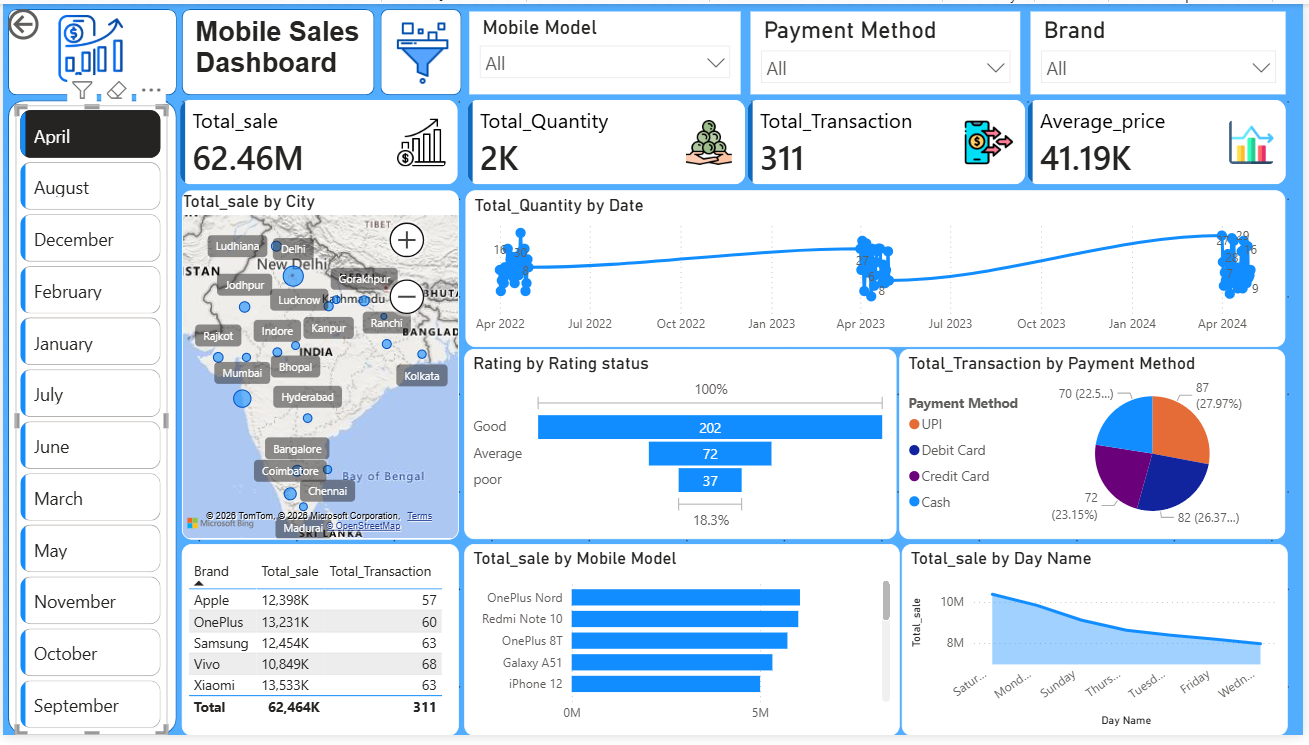

The page's visual inventory and layout, read from the dashboard file:
{"tool":"powerbi","page":{"name":"Dashboard","canvas":[1280,720],"ordinal":0},"visuals":[{"type":"shape","box":[0,0,171.4,90],"z":0},{"type":"image","box":[32.9,7.1,107.1,72.9],"z":1000},{"type":"shape","box":[0,90,171.2,630],"z":2000},{"type":"actionButton","box":[0,0,100,40],"z":3000},{"type":"shape","box":[171.2,0,195,90],"z":4000},{"type":"textbox","box":[185,7.5,181.2,72.5],"z":5000},{"type":"shape","box":[366.2,0,85,90],"z":6000},{"type":"image","box":[366.2,17.5,92.5,62.5],"z":7000},{"type":"slicer","fields":{"Values":["mobile-sales-data.Mobile Model"]},"box":[458.6,7.1,267.1,81.4],"z":8000},{"type":"slicer","fields":{"Values":["mobile-sales-data.Payment Method"]},"box":[735.7,7.1,265.7,81.4],"z":9000},{"type":"slicer","fields":{"Values":["mobile-sales-data.Brand"]},"box":[1011.4,7.1,251.4,81.4],"z":10000},{"type":"map","title":"Total_sale by City","fields":{"Category":["mobile-sales-data.City"],"Size":["mobile-sales-data.Total_sale"]},"box":[175.7,182.9,272.9,344.3],"z":11000},{"type":"tableEx","fields":{"Values":["mobile-sales-data.Brand","mobile-sales-data.Total_sale","mobile-sales-data.Total_Transaction"]},"box":[175.7,531.4,272.9,188.6],"z":12000},{"type":"lineChart","fields":{"Y":["mobile-sales-data.Total_Quantity"],"Category":["mobile-sales-data.Date.Variation.Date Hierarchy.Month"]},"box":[455.7,182.9,807.1,154.3],"z":13000},{"type":"advancedSlicerVisual","fields":{"Values":["custom-calendar.Month Name"]},"box":[12.9,100,148.6,620],"z":14000},{"type":"cardVisual","fields":{"Data":["mobile-sales-data.Total_sale"]},"box":[157,77,307.1,117.1],"z":15000},{"type":"cardVisual","fields":{"Data":["mobile-sales-data.Total_Quantity"]},"box":[440,77.1,307.1,117.1],"z":16000},{"type":"cardVisual","fields":{"Data":["mobile-sales-data.Total_Transaction"]},"box":[715.7,77.1,307.1,117.1],"z":17000},{"type":"cardVisual","fields":{"Data":["mobile-sales-data.Average_price"]},"box":[991.4,77.1,288.6,117.1],"z":18000},{"type":"funnel","title":"Rating by Rating status","fields":{"Category":["mobile-sales-data.Rate"],"Y":["CountNonNull(mobile-sales-data.Rate)"]},"box":[454.3,340,425.7,187.1],"z":19000},{"type":"pieChart","fields":{"Y":["mobile-sales-data.Total_Transaction"],"Category":["mobile-sales-data.Payment Method"]},"box":[882.9,340,380,187.1],"z":20000},{"type":"barChart","fields":{"Y":["mobile-sales-data.Total_sale"],"Category":["mobile-sales-data.Mobile Model"]},"box":[454.3,531.4,428.6,188.6],"z":21000},{"type":"areaChart","fields":{"Y":["mobile-sales-data.Total_sale"],"Category":["custom-calendar.Day Name"]},"box":[885,531.4,380,188.6],"z":22000}]}

Visuals, with their boxes in screenshot pixels (x1, y1, x2, y2), scaled from the page's 1280x720 canvas onto the 1309x745 screenshot:
shape: [0, 0, 175, 93]
image: [34, 7, 143, 83]
shape: [0, 93, 175, 744]
actionButton: [0, 0, 102, 41]
shape: [175, 0, 374, 93]
textbox: [189, 8, 374, 83]
shape: [374, 0, 461, 93]
image: [374, 18, 469, 83]
slicer - mobile-sales-data.Mobile Model: [469, 7, 742, 92]
slicer - mobile-sales-data.Payment Method: [752, 7, 1024, 92]
slicer - mobile-sales-data.Brand: [1034, 7, 1291, 92]
"Total_sale by City" map: [180, 189, 459, 546]
tableEx - mobile-sales-data.Brand x mobile-sales-data.Total_sale: [180, 550, 459, 744]
lineChart - mobile-sales-data.Total_Quantity x mobile-sales-data.Date.Variation.Date Hierarchy.Month: [466, 189, 1291, 349]
advancedSlicerVisual - custom-calendar.Month Name: [13, 103, 165, 744]
cardVisual - mobile-sales-data.Total_sale: [161, 80, 475, 201]
cardVisual - mobile-sales-data.Total_Quantity: [450, 80, 764, 201]
cardVisual - mobile-sales-data.Total_Transaction: [732, 80, 1046, 201]
cardVisual - mobile-sales-data.Average_price: [1014, 80, 1308, 201]
"Rating by Rating status" funnel: [465, 352, 900, 545]
pieChart - mobile-sales-data.Total_Transaction x mobile-sales-data.Payment Method: [903, 352, 1292, 545]
barChart - mobile-sales-data.Total_sale x mobile-sales-data.Mobile Model: [465, 550, 903, 744]
areaChart - mobile-sales-data.Total_sale x custom-calendar.Day Name: [905, 550, 1294, 744]
